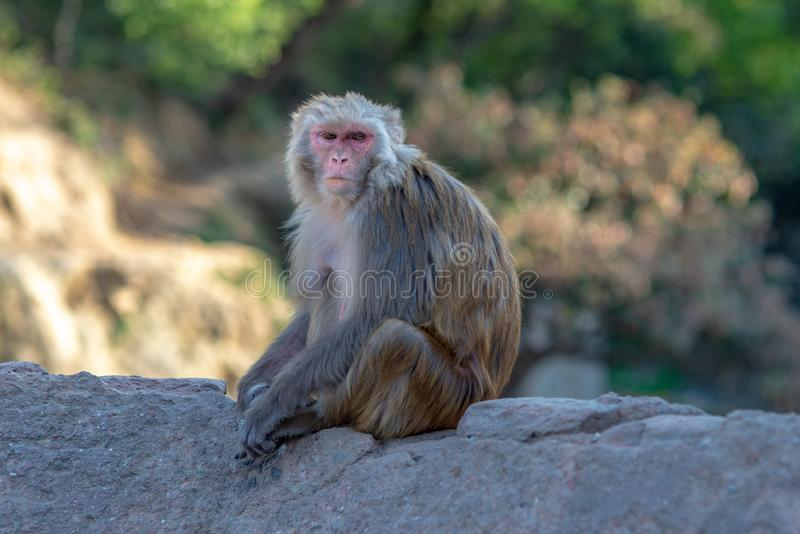monkey: (220, 76, 534, 476)
